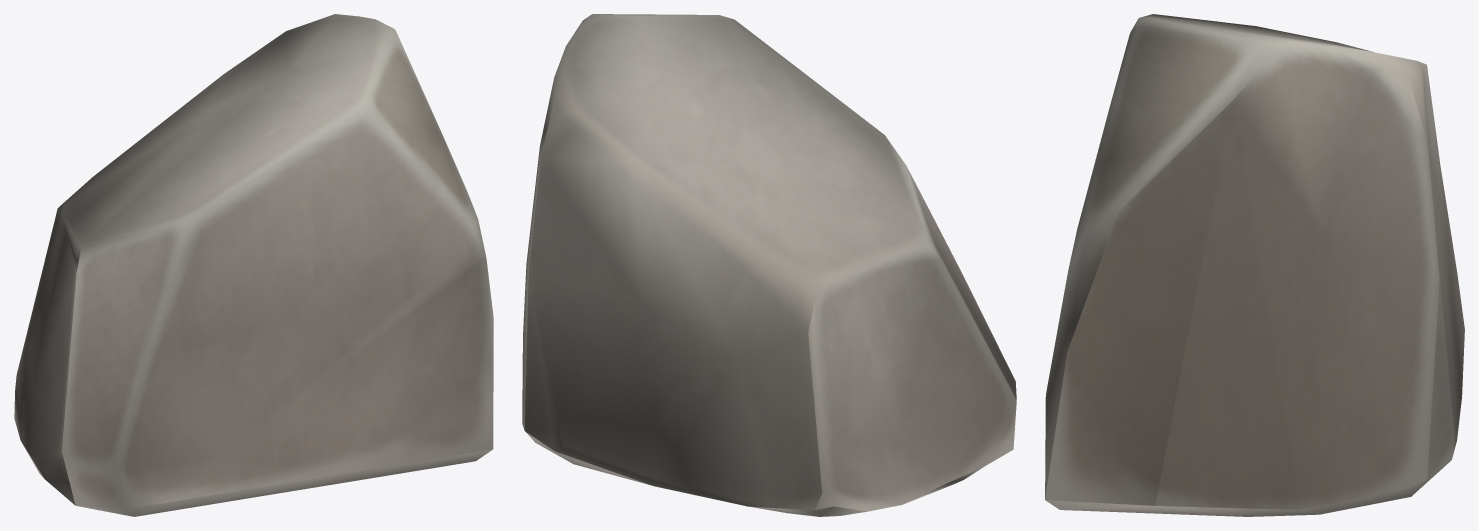
File: stone_1.dae
The picture shows the model from 3 angles, left to right: view 1: azimuth 30°, elevation 25°; view 2: azimuth 150°, elevation 25°; view 3: azimuth 270°, elevation 25°; orthographic projection. The views are drawn at different scales.
Parts seen in each view (by area): view 1: SM_Rocks_02; view 2: SM_Rocks_02; view 3: SM_Rocks_02.
Boxes of the visible parts, x1,y1,x2,y2 form: SM_Rocks_02: (14,14,493,516); SM_Rocks_02: (522,14,1016,516); SM_Rocks_02: (1045,14,1464,516).
Size of the model in its own units: 1.65 by 1.23 by 1.52.
Materials: 1 (1 with a texture image).
